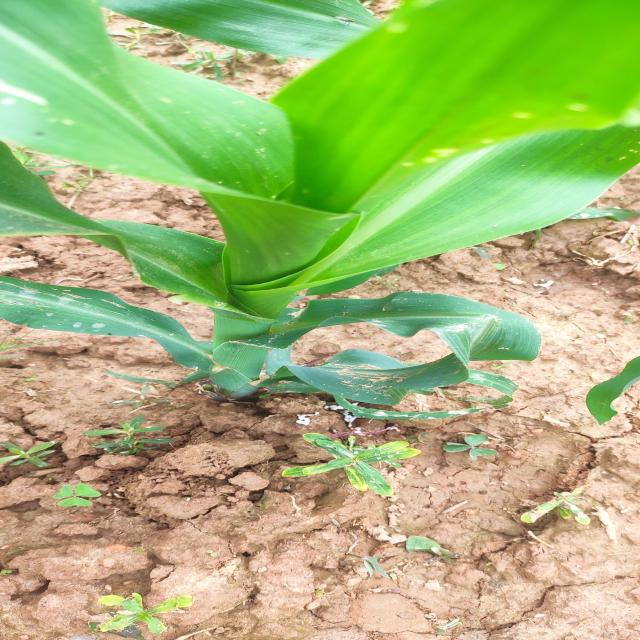maize: (0, 0, 640, 410)
weed: (269, 431, 432, 497), (88, 591, 202, 634), (87, 412, 165, 458), (429, 426, 510, 463), (43, 476, 106, 519), (0, 434, 66, 473), (540, 490, 600, 530)
